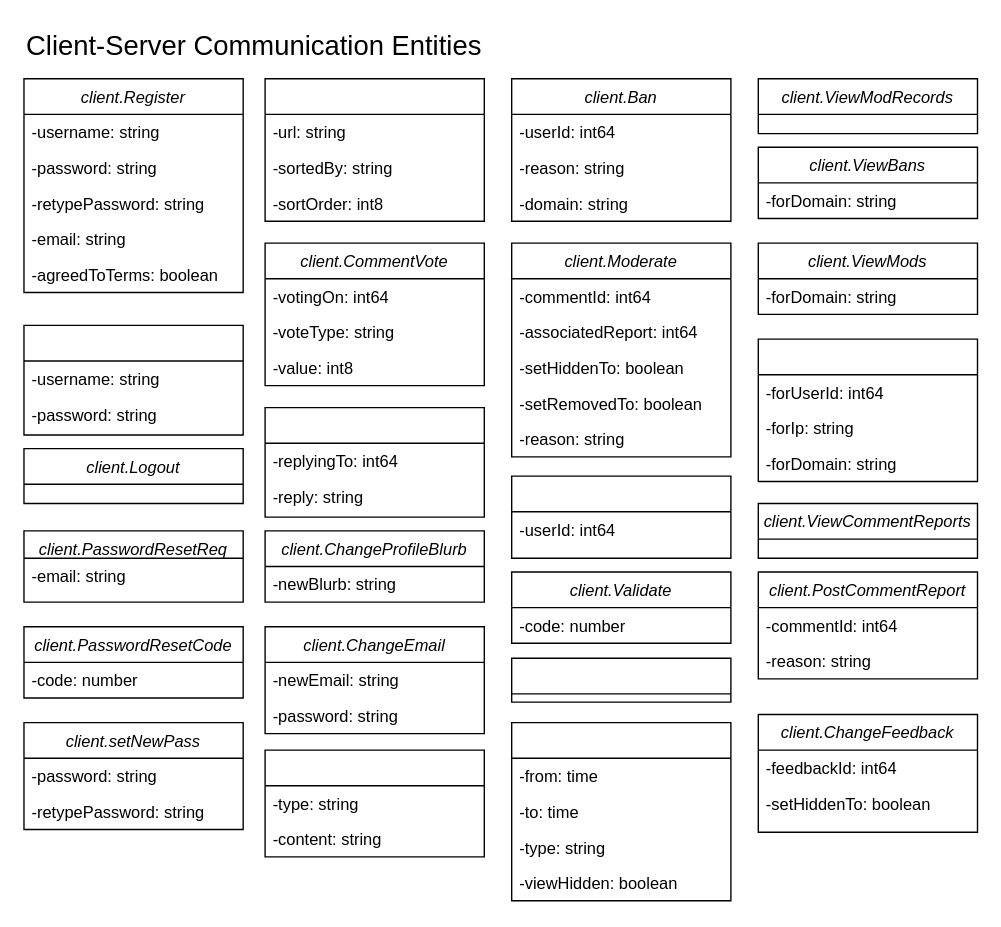
Some shapes in this 1001 by 927 pixel diagram are drawn without their labels. The box of each missing label's shape, as (x1, y1, x2, y2) in pixels:
client.CommentReply: (264, 406, 484, 517)
client.Feedback: (264, 749, 484, 857)
client.GetComments: (264, 77, 484, 221)
client.getUserProfile: (510, 475, 731, 558)
client.Login: (23, 324, 243, 435)
client.RequestValidation: (510, 657, 731, 702)
client.ViewFeedback: (510, 721, 731, 901)
client.ViewLogs: (757, 338, 977, 482)
